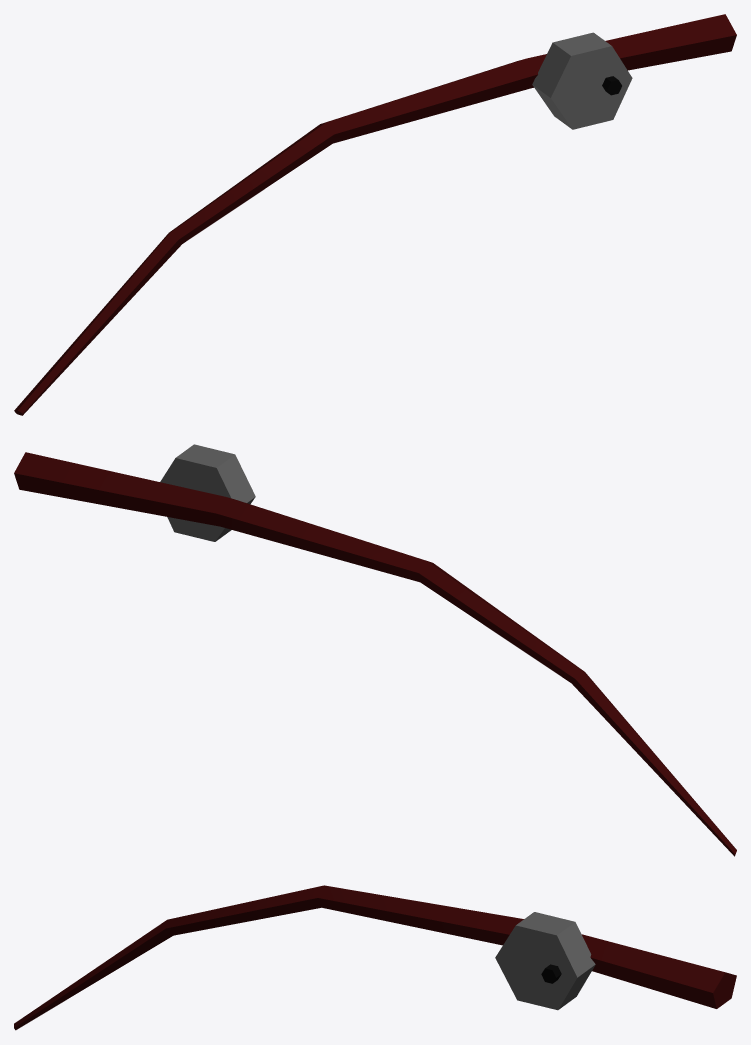
The model's file is RodWithAnimation.fbx.
3 views of the same model, one above another, from view 1: azimuth 30°, elevation 25°; view 2: azimuth 150°, elevation 25°; view 3: azimuth 330°, elevation 25° (orthographic).
Visible parts, largest first — view 1: rod; view 2: rod; view 3: rod.
Boxes of the visible parts, <box> form: rod: <box>14,14,736,415</box>; rod: <box>14,444,736,856</box>; rod: <box>14,885,736,1030</box>.
Size of the model in its own units: 163 by 55.22 by 17.74.
